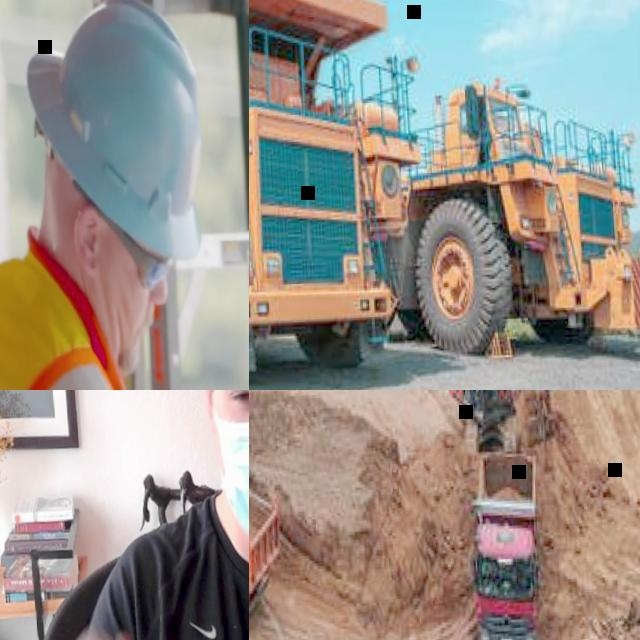Hardhat: (21, 0, 209, 262)
Mask: (210, 395, 249, 553)
NO-Mask: (89, 271, 151, 377)
NO-Safety Vest: (124, 492, 249, 640)
Person: (0, 0, 226, 390), (0, 390, 249, 640)
Safety Vest: (0, 246, 174, 390)
machinery: (379, 64, 640, 365), (249, 0, 429, 390), (459, 442, 554, 640), (249, 390, 294, 640), (443, 390, 561, 453)
